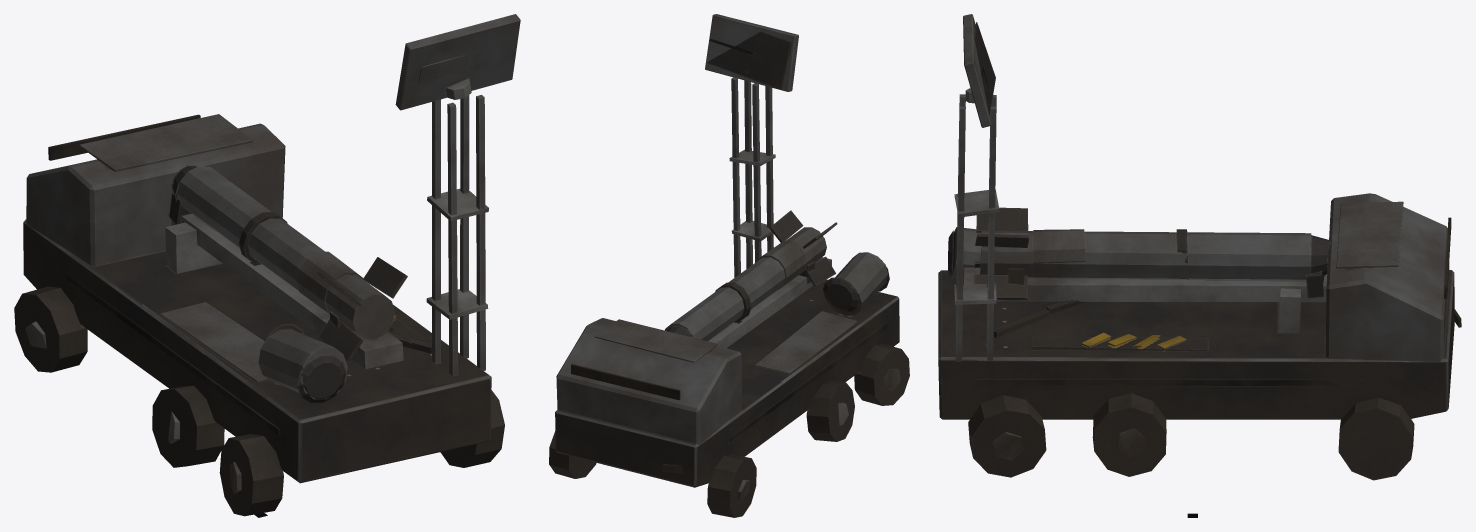
File: chs_chimera_wreck.fbx
The picture shows the model from 3 angles, left to right: view 1: azimuth 30°, elevation 25°; view 2: azimuth 150°, elevation 25°; view 3: azimuth 270°, elevation 25°; orthographic projection. The views are drawn at different scales.
Parts seen in each view (by area): view 1: base_bar, launcher_bar, radar_bar, wheelL1_bar, wheelL2_bar, wheelL3_bar, wheelR3_bar; view 2: base_bar, launcher_bar, radar_bar, wheelL3_bar, wheelL1_bar, wheelL2_bar, wheelR1_bar; view 3: base_bar, launcher_bar, wheelR3_bar, wheelR1_bar, wheelR2_bar, radar_bar.
Part boxes in pixels (x1,y1,x2,y2): base_bar: [23, 95, 491, 483]; launcher_bar: [169, 166, 412, 369]; radar_bar: [395, 14, 520, 110]; wheelL1_bar: [14, 286, 87, 372]; wheelL2_bar: [152, 385, 224, 467]; wheelL3_bar: [219, 434, 283, 516]; wheelR3_bar: [440, 390, 504, 467]; base_bar: [555, 77, 899, 487]; launcher_bar: [664, 210, 837, 348]; radar_bar: [705, 14, 798, 91]; wheelL3_bar: [854, 344, 909, 405]; wheelL1_bar: [707, 454, 756, 517]; wheelL2_bar: [806, 380, 854, 441]; wheelR1_bar: [549, 431, 596, 478]; base_bar: [938, 94, 1461, 419]; launcher_bar: [963, 207, 1330, 302]; wheelR3_bar: [968, 395, 1046, 477]; wheelR1_bar: [1338, 397, 1414, 480]; wheelR2_bar: [1092, 393, 1166, 476]; radar_bar: [963, 14, 995, 127].
Bounding box in the file's own units: 558 × 1101 × 1012.
Materials: 2 (2 with a texture image).
